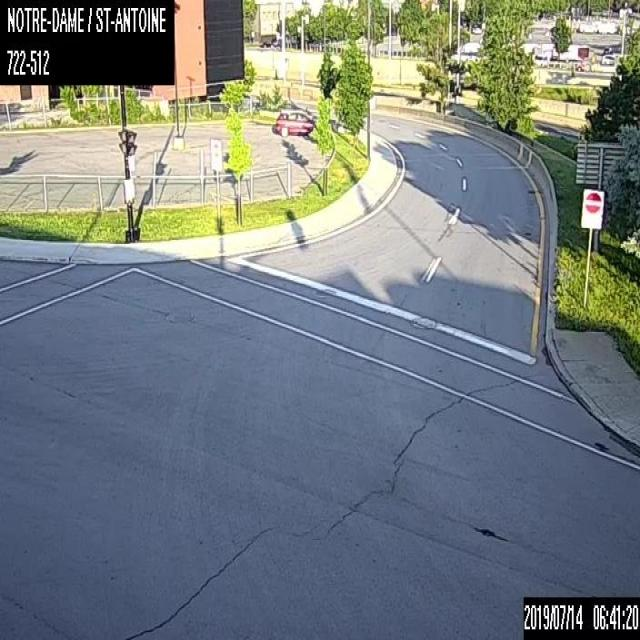vehicle: (275, 108, 319, 137)
